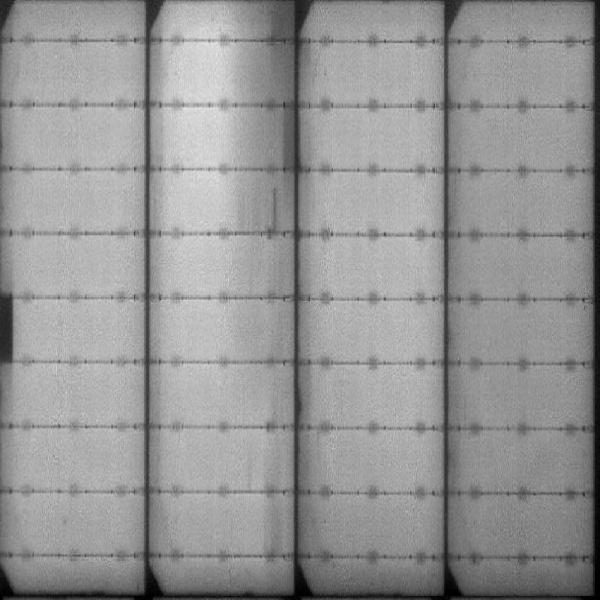black_border: (1, 291, 17, 366), (281, 100, 294, 174)
scratch: (267, 183, 284, 241)
